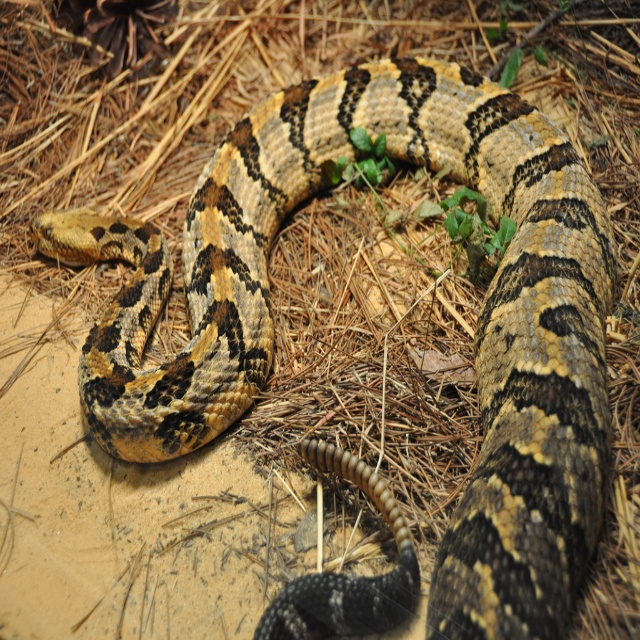Snake: (29, 58, 610, 640)
